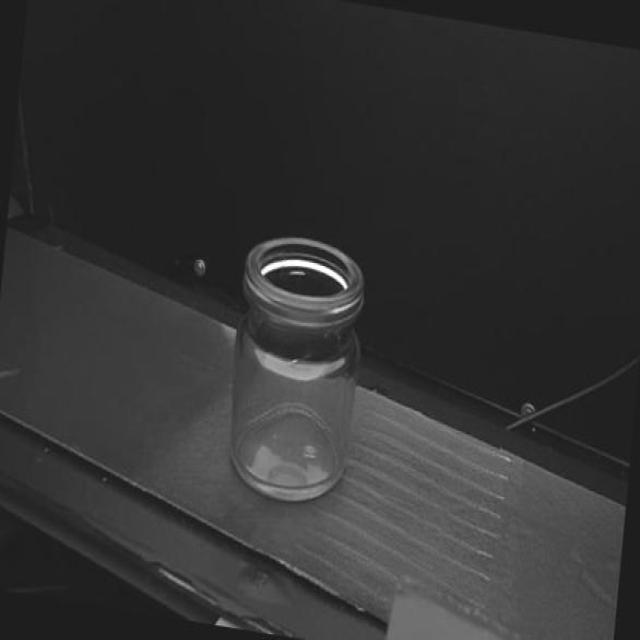defect: (288, 353, 310, 365)
glass: (222, 226, 368, 512)
